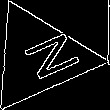N_SW: (5, 28, 75, 86)
